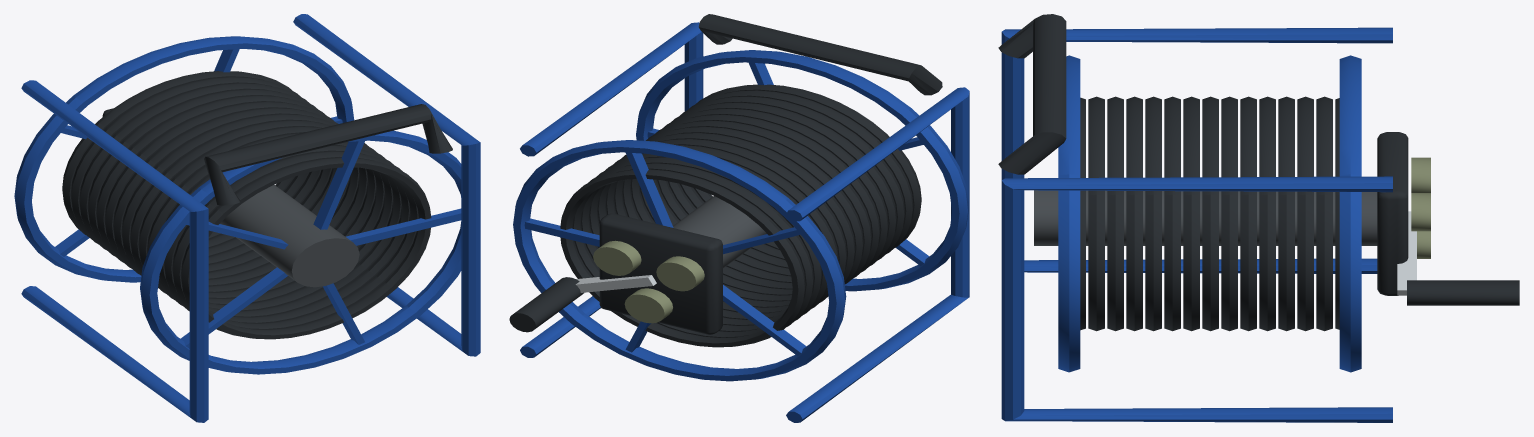
The model's file is ob_cable_reel.glb.
3 renders of one model, left to right at view 1: azimuth 30°, elevation 25°; view 2: azimuth 150°, elevation 25°; view 3: azimuth 270°, elevation 25°, orthographic. The views are drawn at different scales.
Visible parts, largest first — view 1: ob_cable_reel; view 2: ob_cable_reel; view 3: ob_cable_reel.
Part boxes in pixels (x1=…): ob_cable_reel: x1=14, y1=14, x2=480, y2=422; ob_cable_reel: x1=509, y1=14, x2=969, y2=422; ob_cable_reel: x1=998, y1=14, x2=1519, y2=422.
Bounding box in the file's own units: 0.42 × 0.29 × 0.5.
